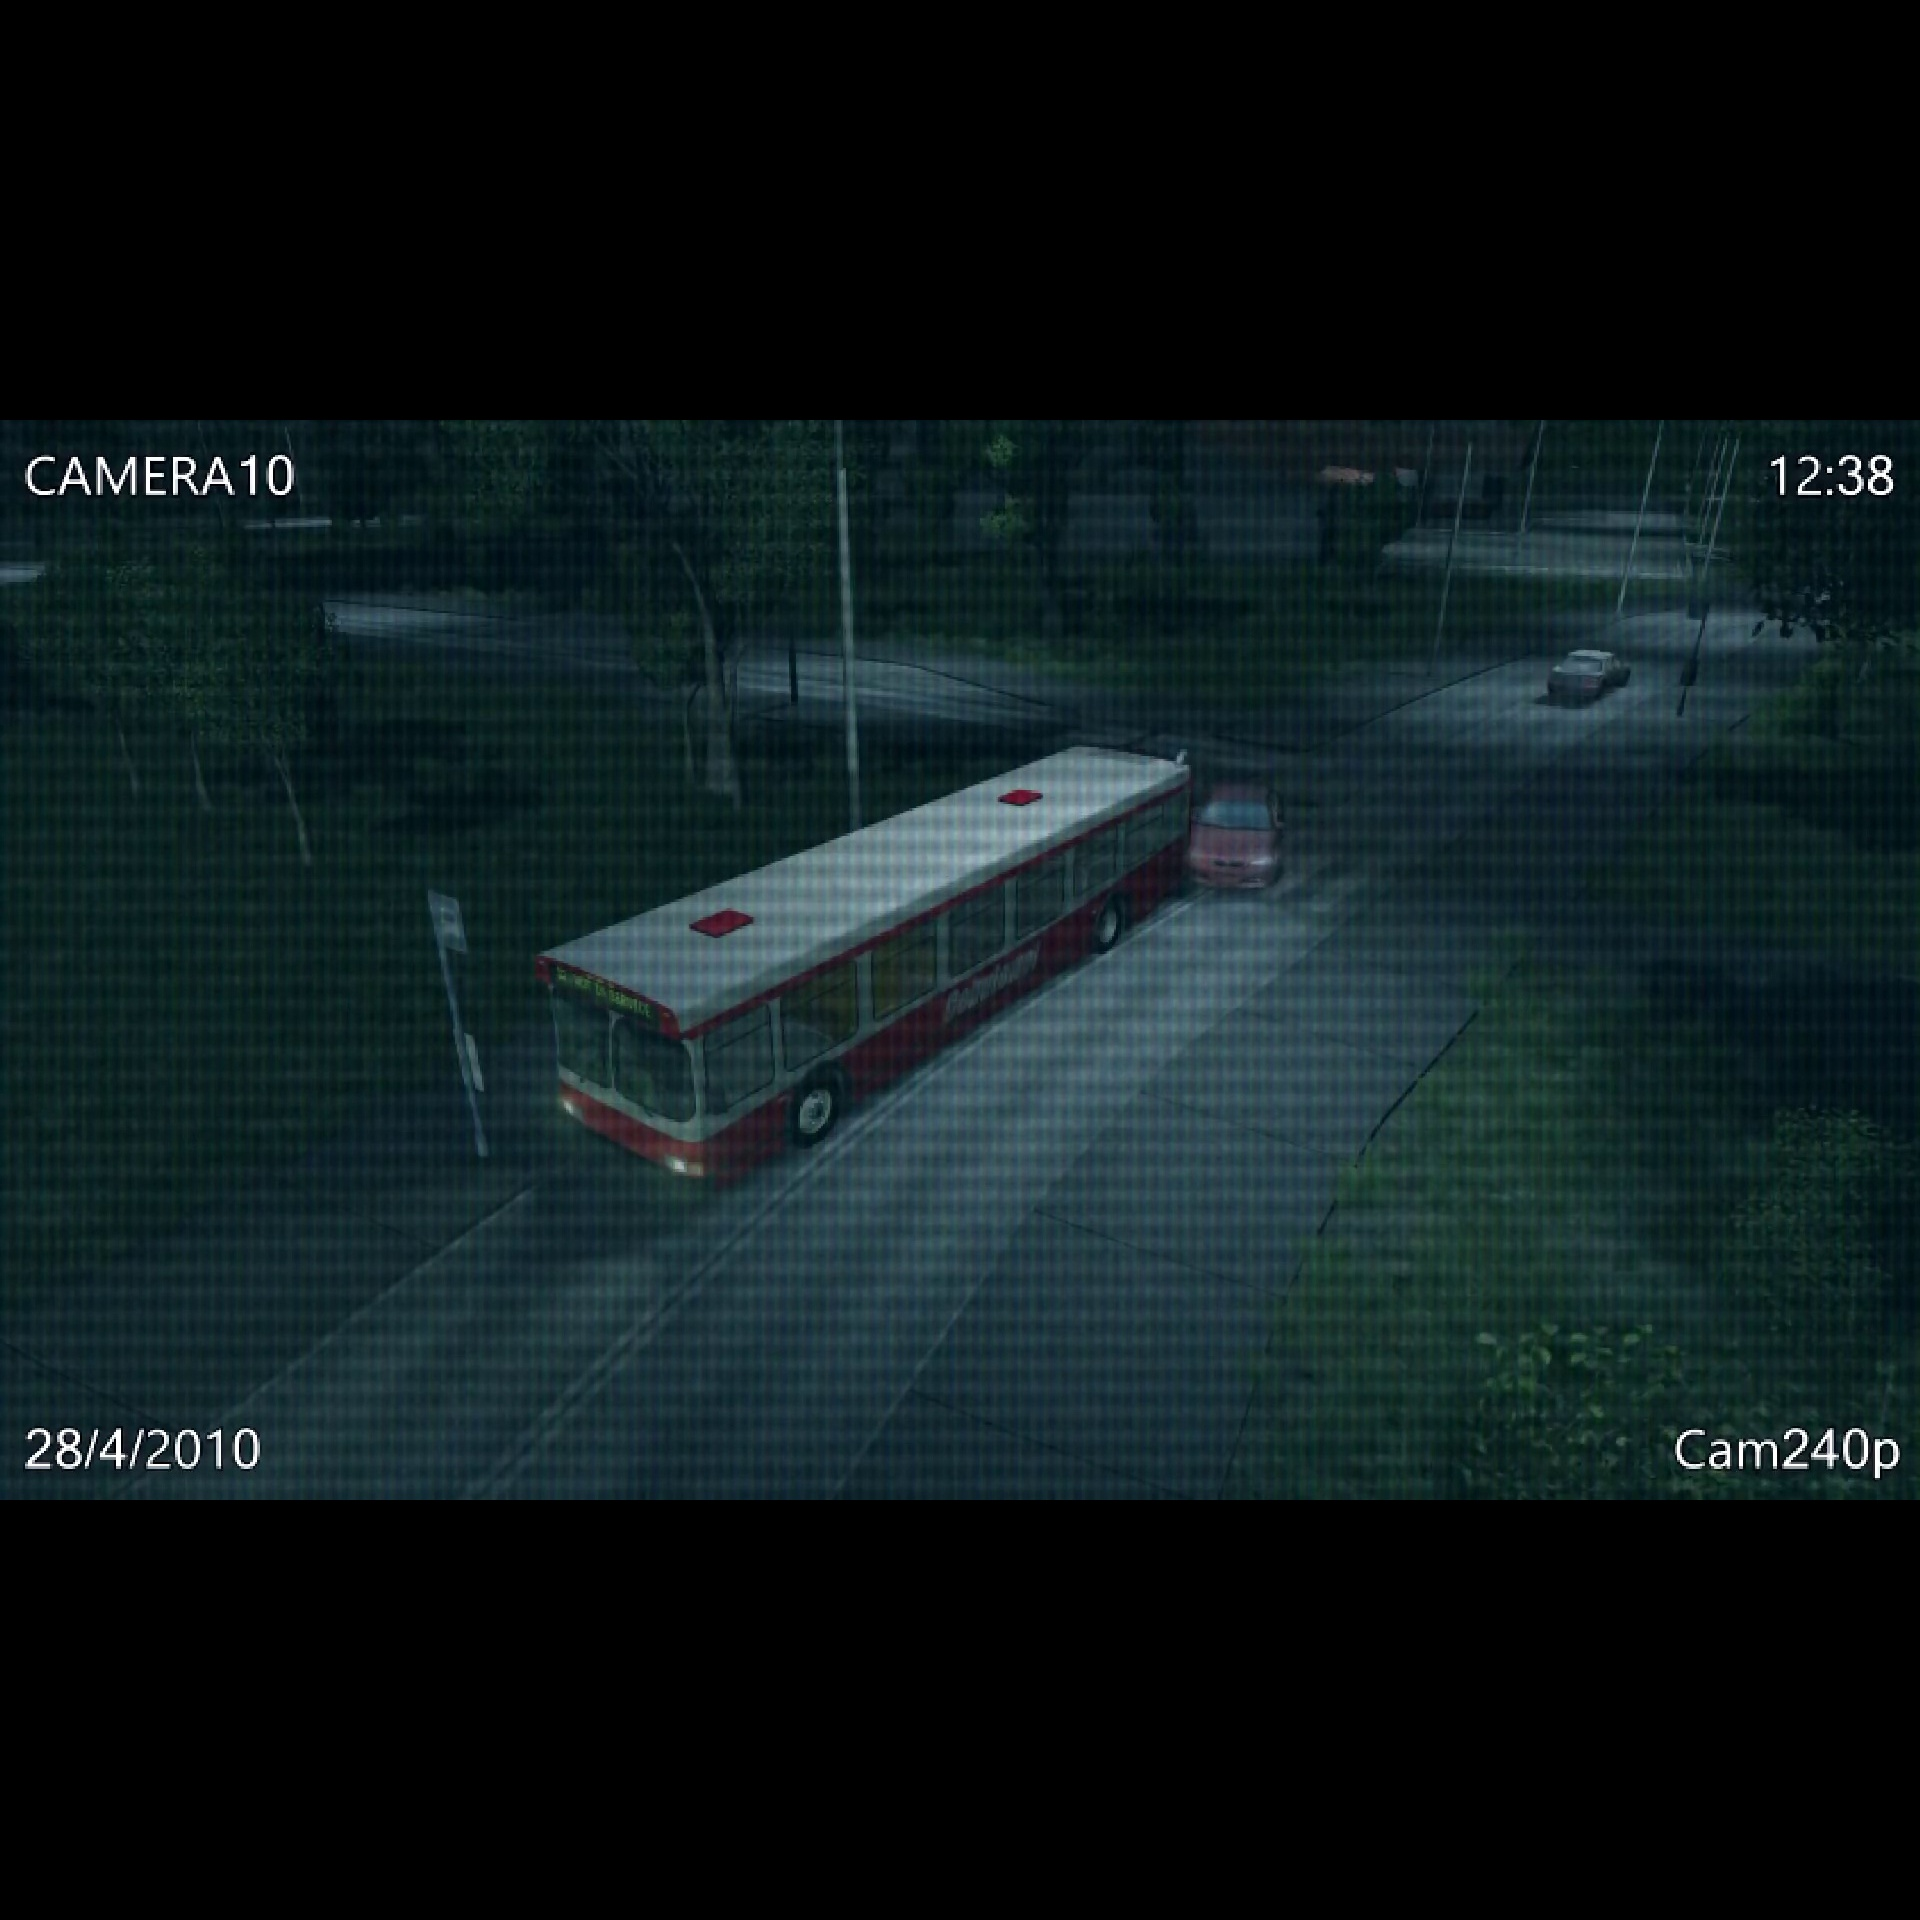vehicle: (538, 737, 1190, 1190), (1189, 772, 1299, 914), (1547, 644, 1642, 712)
